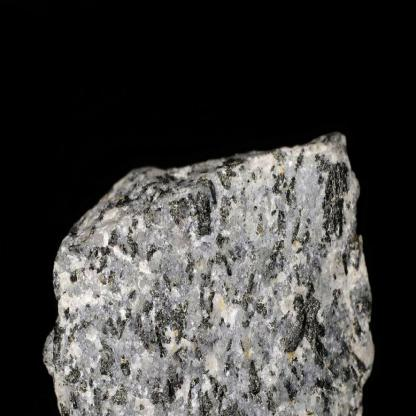Igneous_Diorite: (31, 120, 386, 415)
